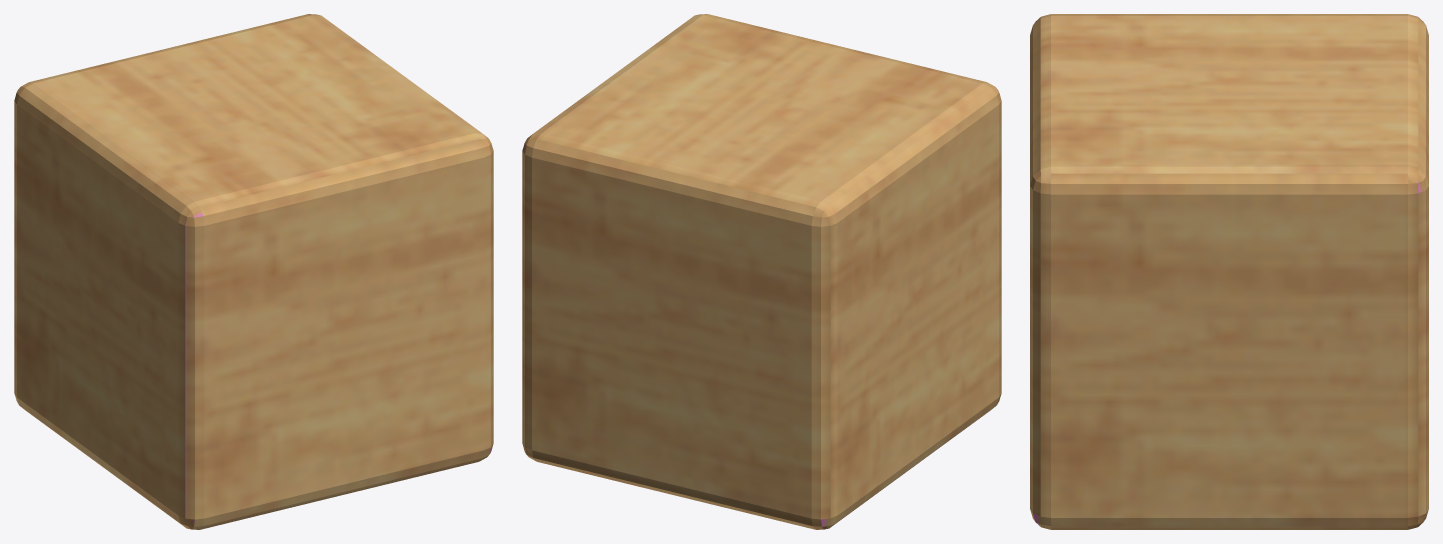
The model's file is PinkCube.fbx.
The picture shows the model from 3 angles, left to right: view 1: azimuth 30°, elevation 25°; view 2: azimuth 150°, elevation 25°; view 3: azimuth 270°, elevation 25°; orthographic projection. The views are drawn at different scales.
Visible parts, largest first — view 1: Cube.013; view 2: Cube.013; view 3: Cube.013.
Boxes of the visible parts, <box> form: Cube.013: <box>14,14,493,529</box>; Cube.013: <box>522,14,1001,529</box>; Cube.013: <box>1030,14,1428,529</box>.
Size of the model in its own units: 400 by 400 by 400.
